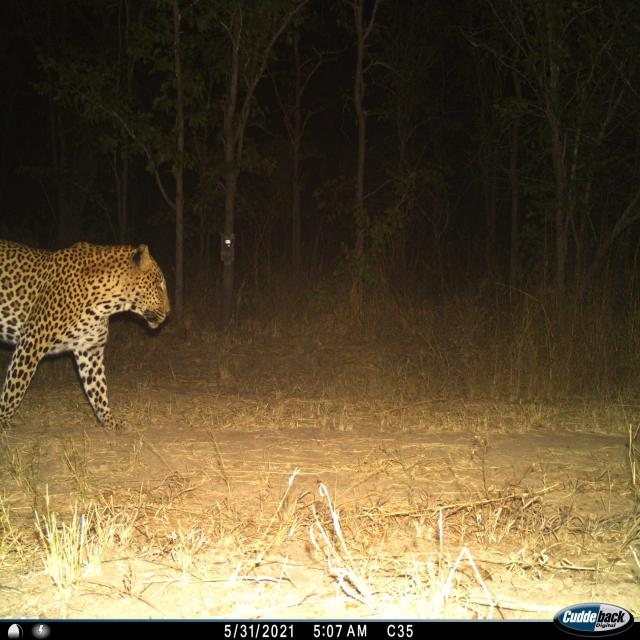Leopard: (0, 224, 172, 444)
